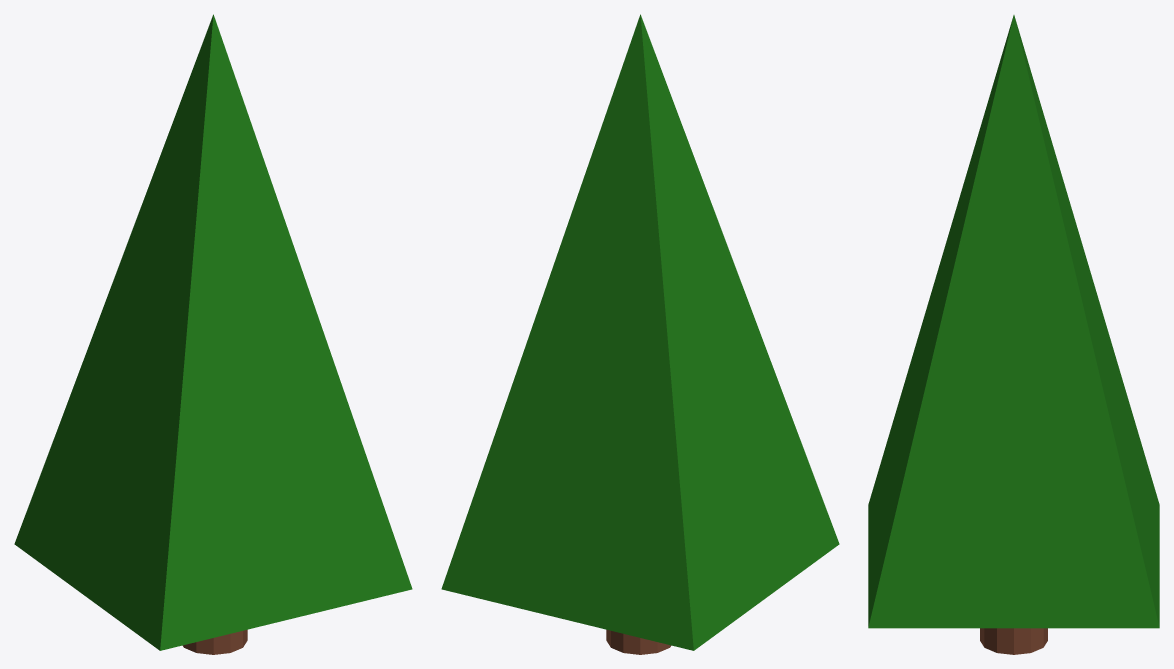
Rendered from Tree_36_summer_mat.fbx.
3 renders of one model, left to right at view 1: azimuth 30°, elevation 25°; view 2: azimuth 150°, elevation 25°; view 3: azimuth 270°, elevation 25°, orthographic.
Parts seen in each view (by area): view 1: Tree_36_summer_mat; view 2: Tree_36_summer_mat; view 3: Tree_36_summer_mat.
Part boxes in pixels (x1,y1,x2,y2): Tree_36_summer_mat: (14,14,412,654); Tree_36_summer_mat: (441,14,839,654); Tree_36_summer_mat: (868,15,1159,654).
Size of the model in its own units: 2.76 by 6.55 by 2.76.
